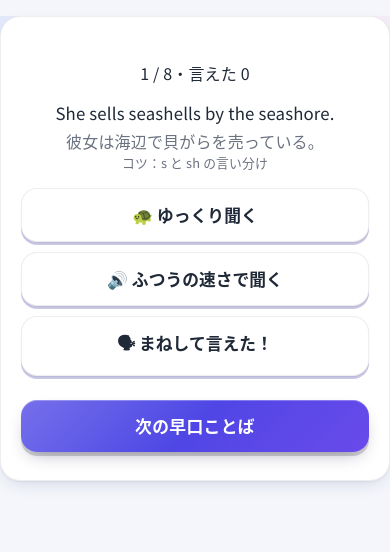
Test: 早口ことばを順に見られ、言えたら XP（同じものは1回だけ）
Expected: the text "She sells seashells by the seashore." is shown, [55,101,334,125]
What coordinates should you click on to do the following:
click the button "🗣 まねして言えた！"
I would click on:
 (195, 346)
Its box is [21,316,369,376].
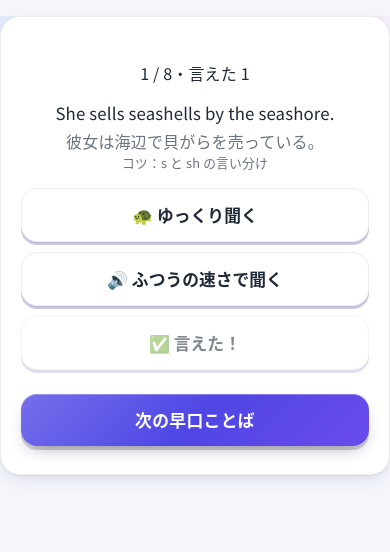
Expected: the button "✅ 言えた！" is disabled, [21,316,369,370]
What coordinates should you click on to do the following:
click the button "次の早口ことば"
I would click on:
 (195, 420)
Its box is [21,394,369,446].
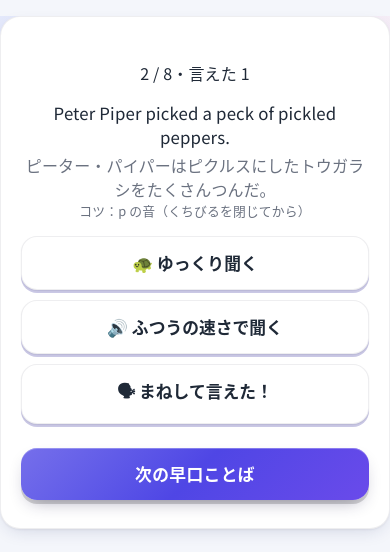
Expected: the text "Peter Piper picked a peck of pickled peppers." is shown, [54,101,336,149]
